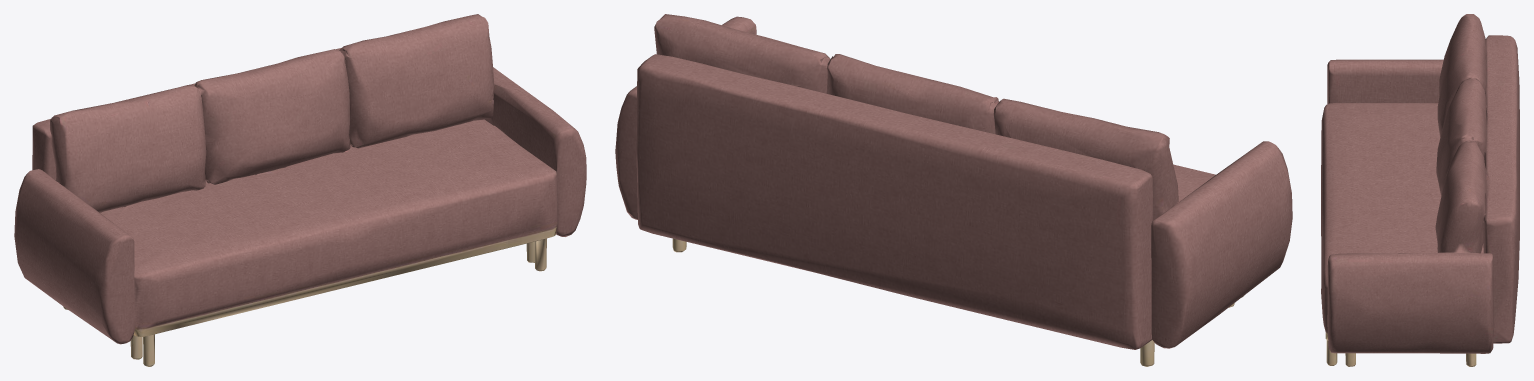
The model's file is 04 - GRUNNARP 3-seat sofa-bed - Gunnared light brown-pink.glb.
The picture shows the model from 3 angles, left to right: view 1: azimuth 30°, elevation 25°; view 2: azimuth 150°, elevation 25°; view 3: azimuth 270°, elevation 25°; orthographic projection. The views are drawn at different scales.
Parts seen in each view (by area): view 1: ASY_ART_50583397_S01_NV01; view 2: ASY_ART_50583397_S01_NV01; view 3: ASY_ART_50583397_S01_NV01.
Boxes of the visible parts, x1,y1,x2,y2 form: ASY_ART_50583397_S01_NV01: (14,14,586,366); ASY_ART_50583397_S01_NV01: (615,14,1292,366); ASY_ART_50583397_S01_NV01: (1321,14,1519,366).
Bounding box in the file's own units: 2.32 × 0.8907 × 0.9168.
1 material, 1 textured.
